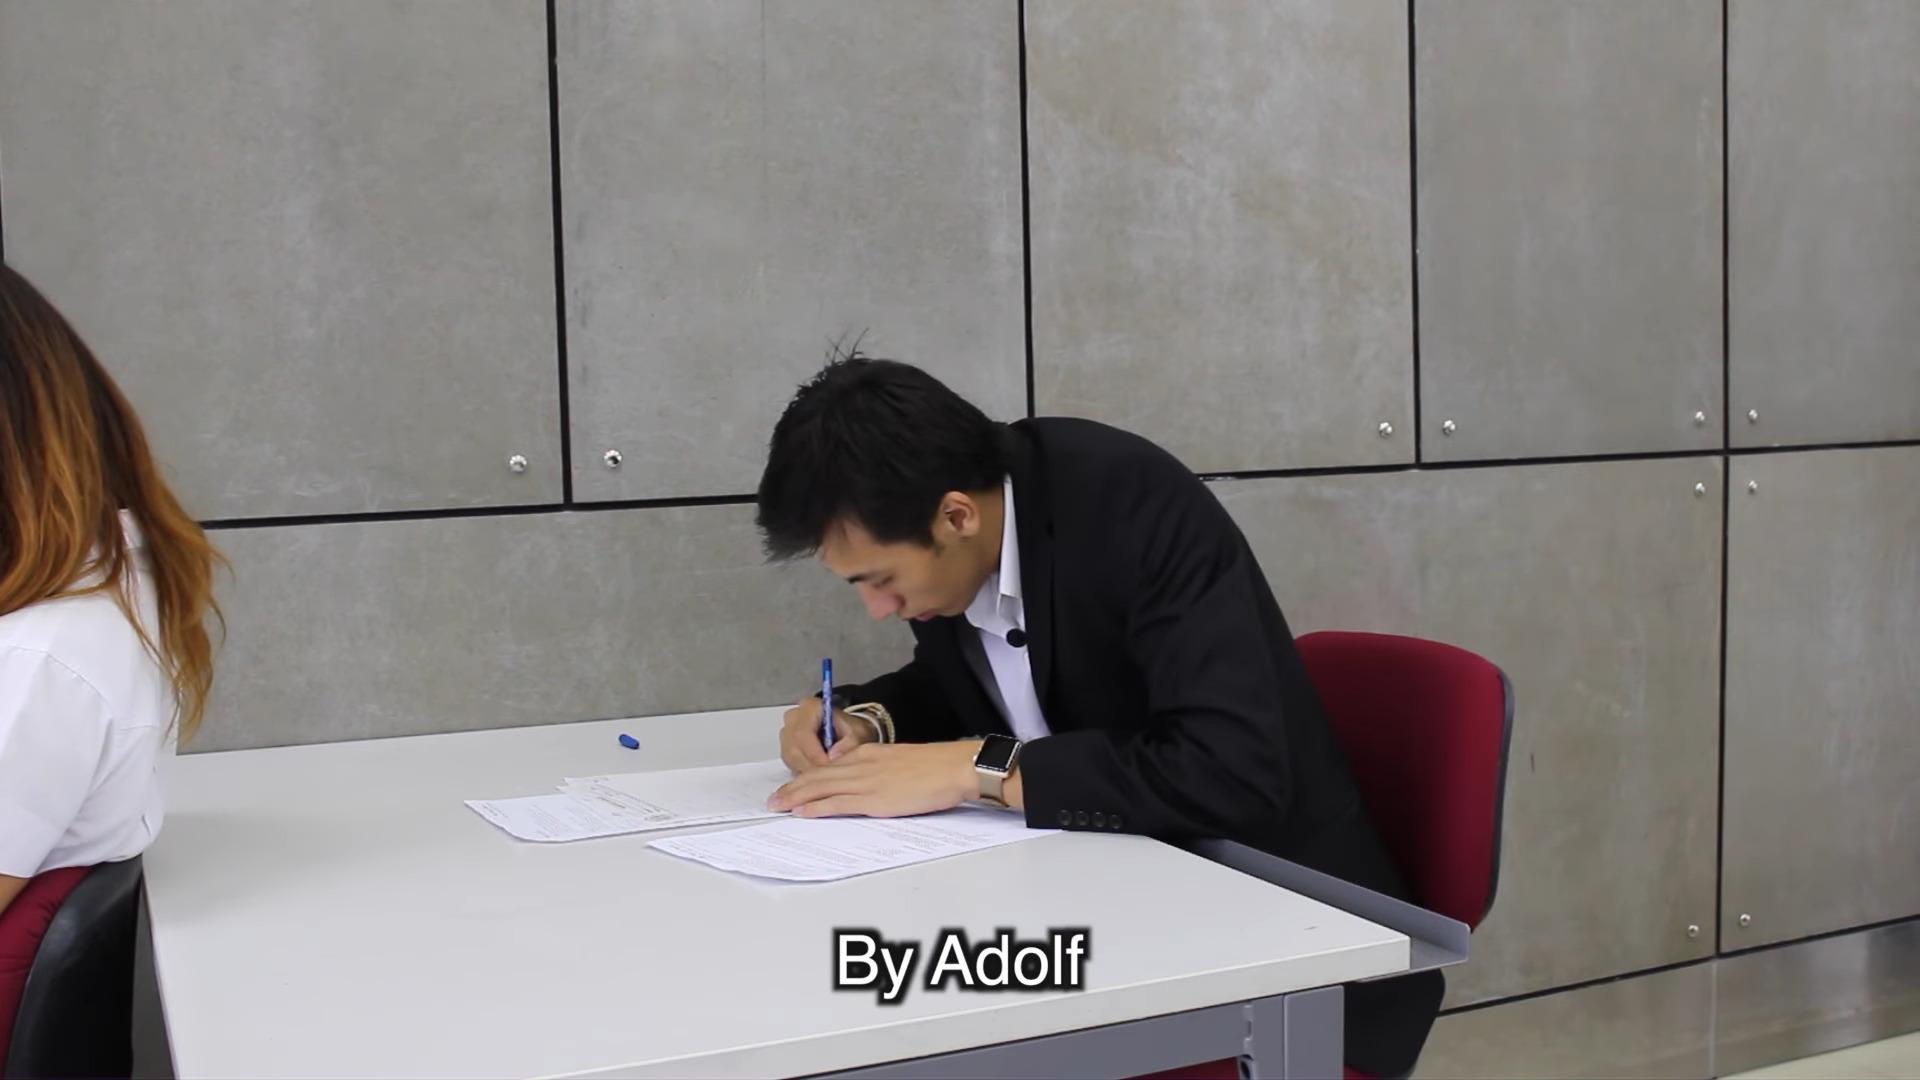good: (451, 315, 1378, 907)
